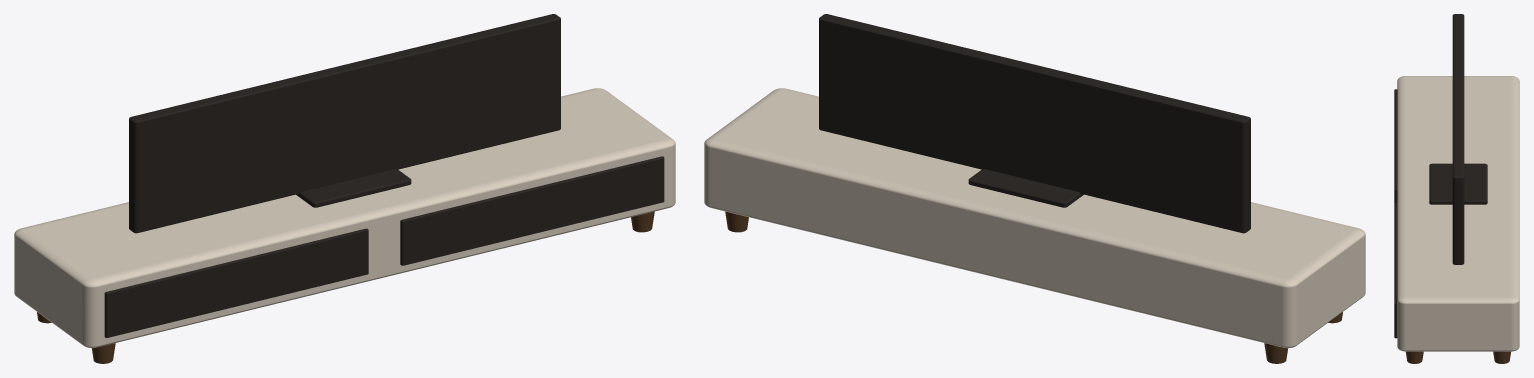
The picture shows the model from 3 angles, left to right: view 1: azimuth 30°, elevation 25°; view 2: azimuth 150°, elevation 25°; view 3: azimuth 270°, elevation 25°; orthographic projection. The views are drawn at different scales.
Size of the model in its own units: 1.8 by 0.6 by 0.42.
